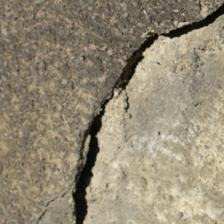Crack: (0, 76, 65, 147), (59, 56, 97, 166), (19, 161, 62, 203)
